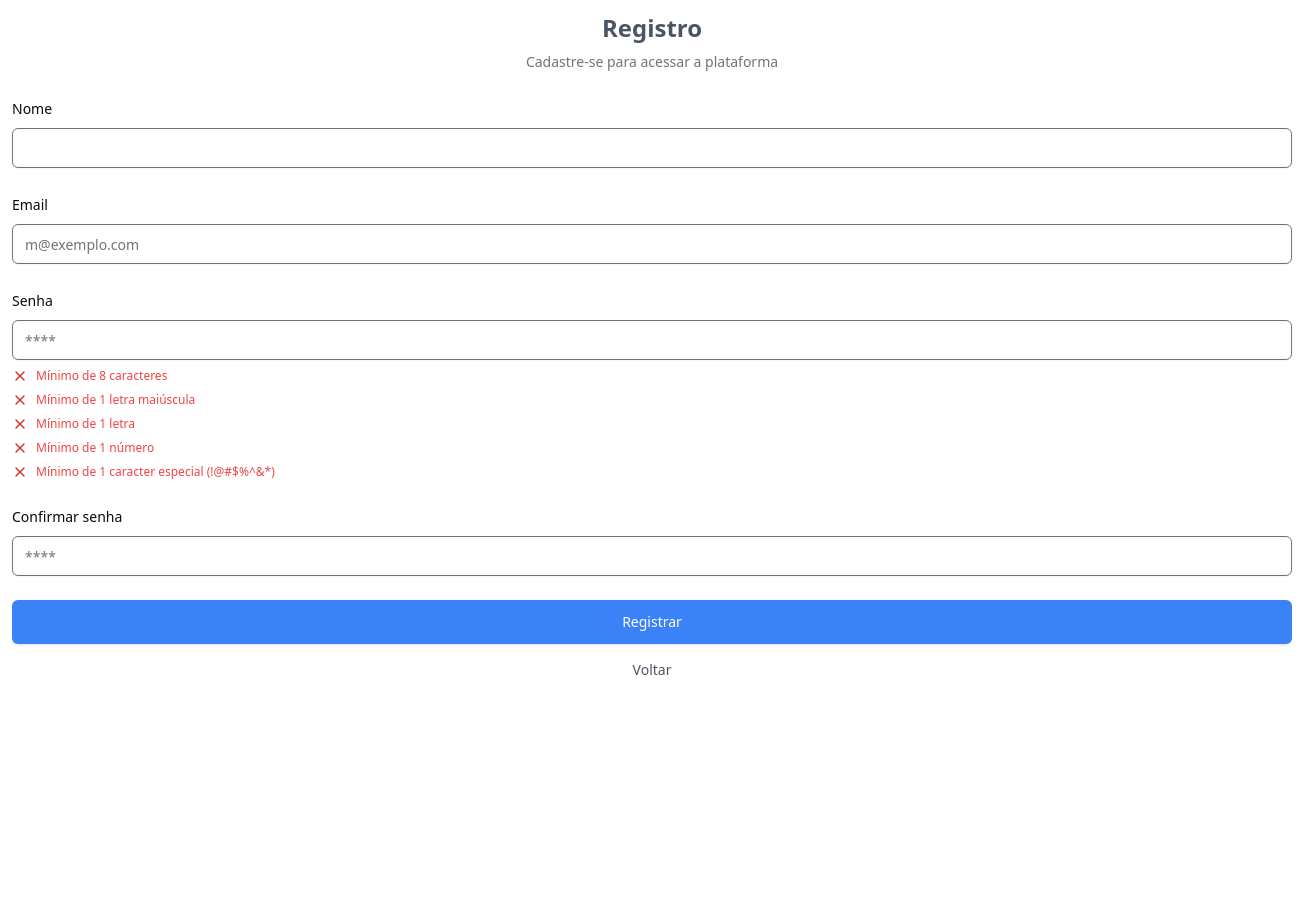
<RegisterForm /> › should show error message if api returns a error
The image size is (1304, 912).
Type "123456Abs!" into the field labelled "Senha" at (652, 340), box left=12, top=320, right=1292, bottom=360
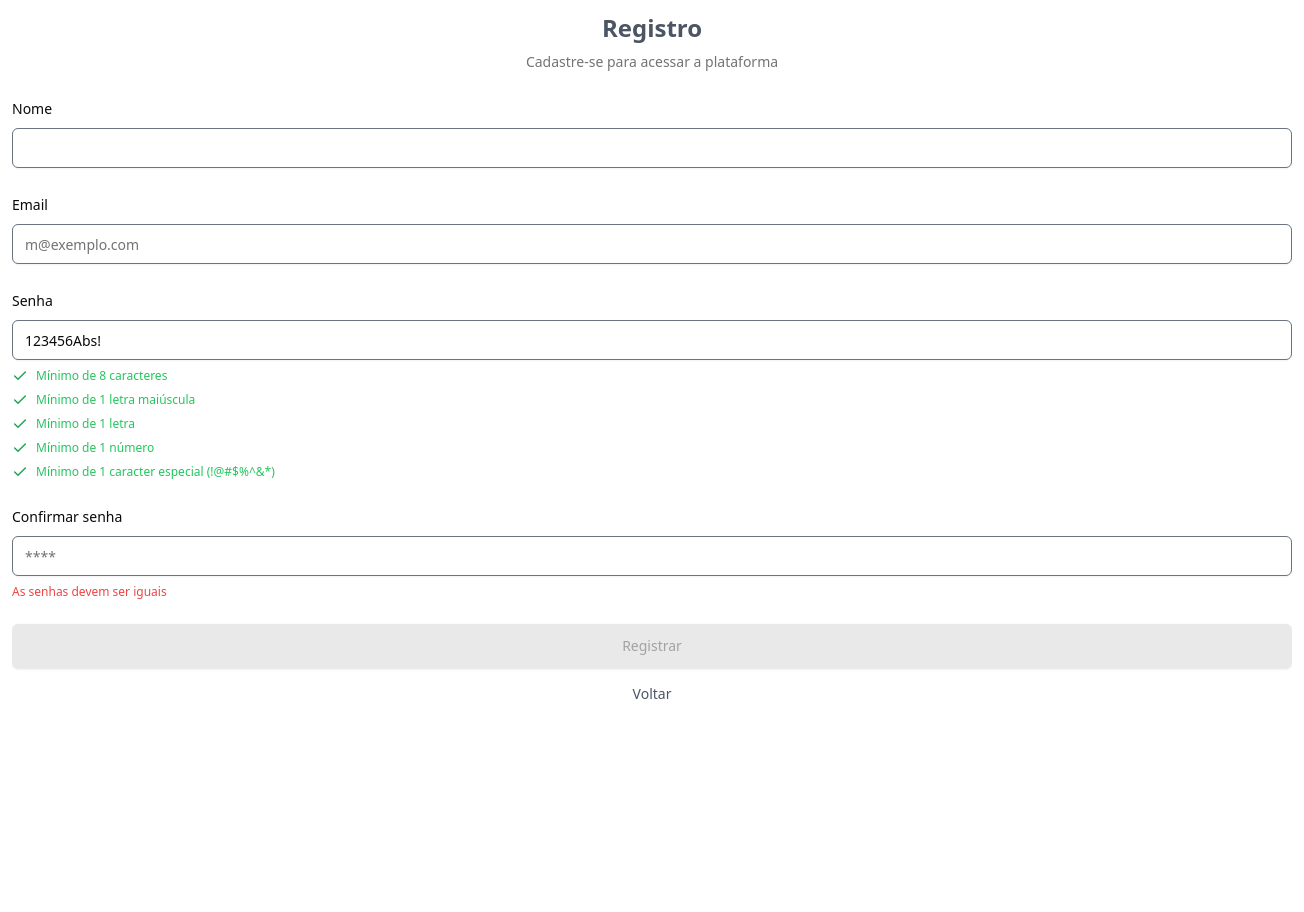
Type "123456Abs!" into the field labelled "Confirmar senha" at (652, 556), box left=12, top=536, right=1292, bottom=576
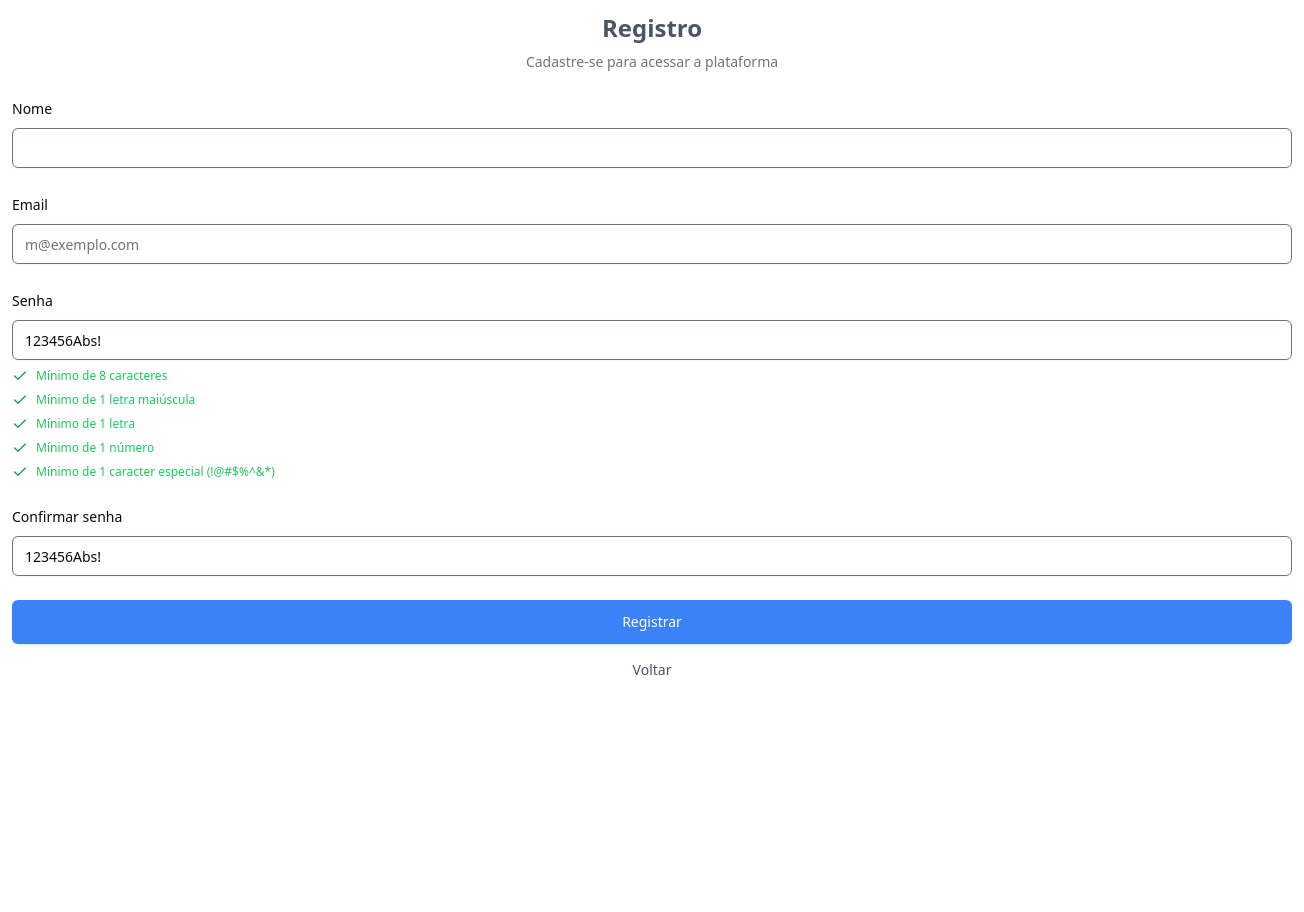
Type "User" into the field labelled "Nome" at (652, 148), box left=12, top=128, right=1292, bottom=168
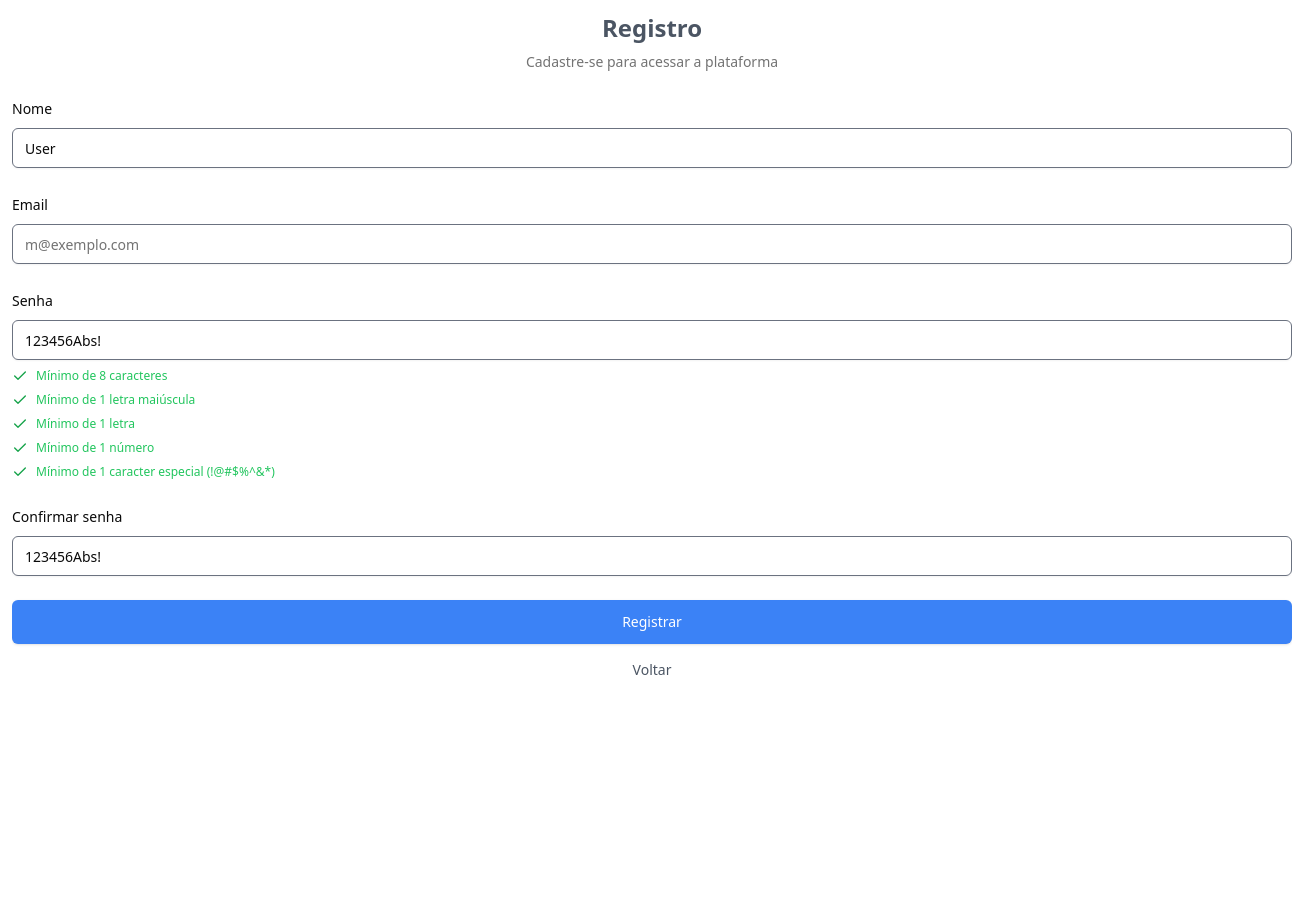
Type "user@hotmail.com" into the field labelled "Email" at (652, 244), box left=12, top=224, right=1292, bottom=264
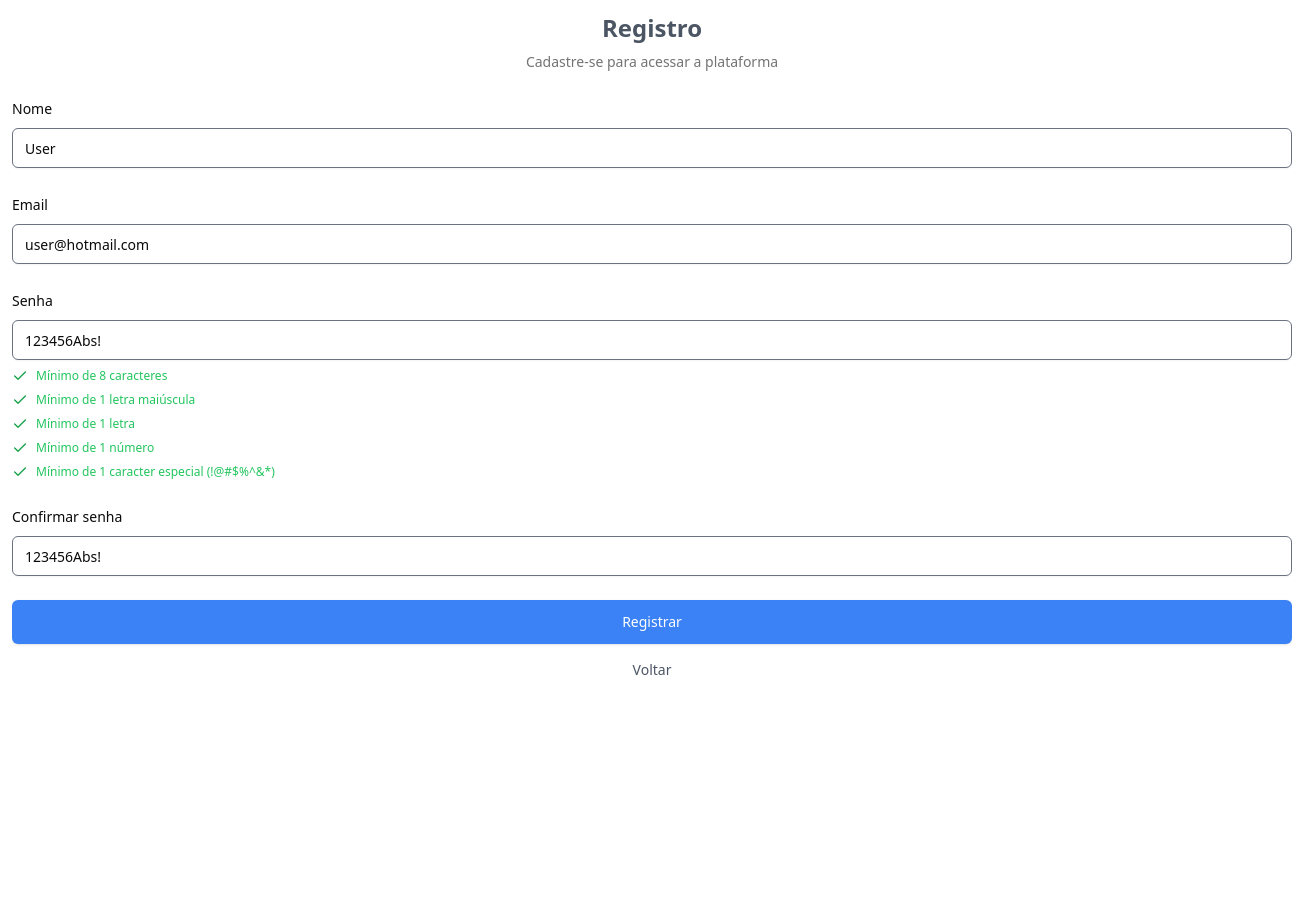
Click the button "Registrar" at (652, 622), box left=12, top=600, right=1292, bottom=644
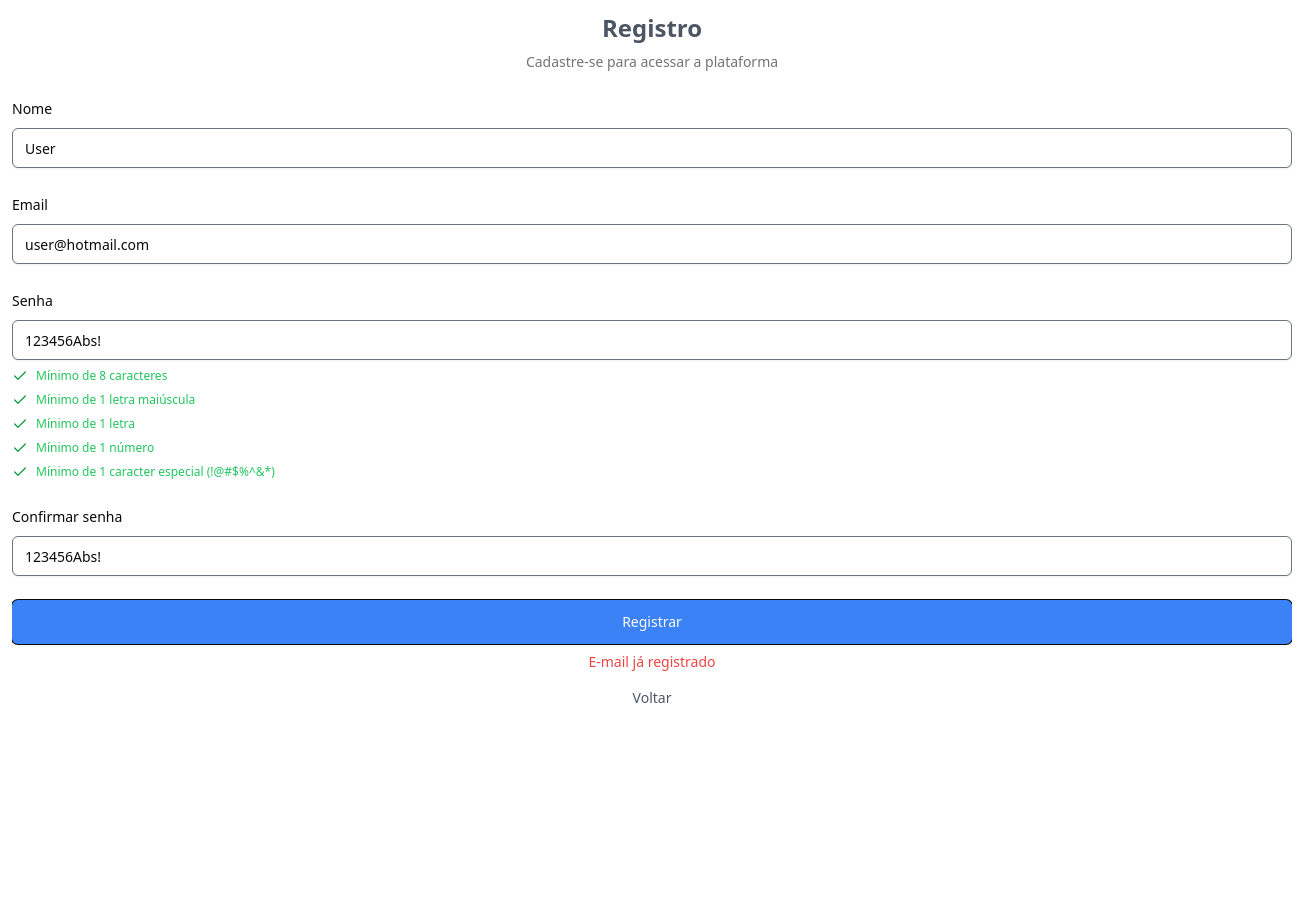
Result: the text "E-mail já registrado" is shown at left=588, top=652, right=716, bottom=672
